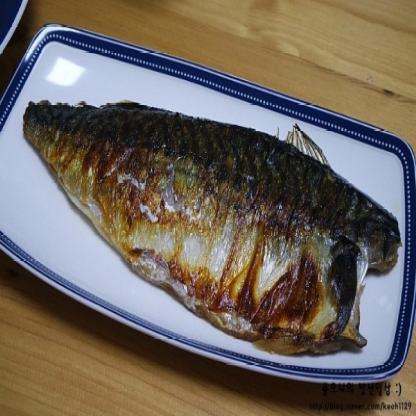Peixe: (17, 78, 400, 360)
